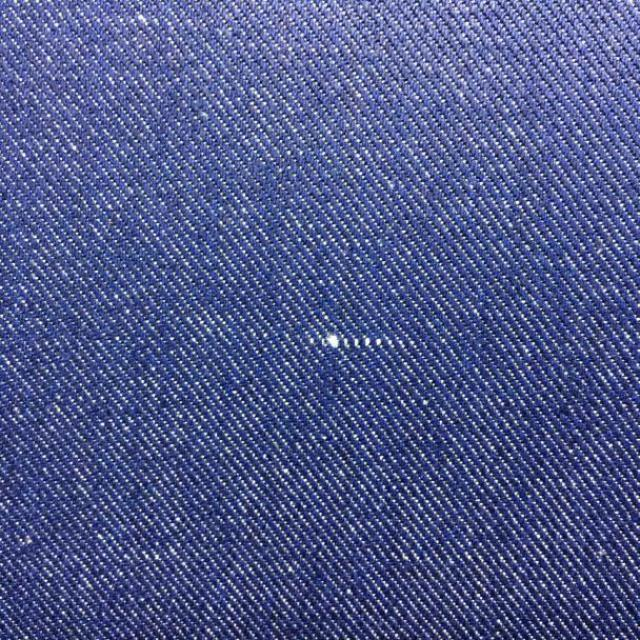Knot: (309, 332, 412, 351)
